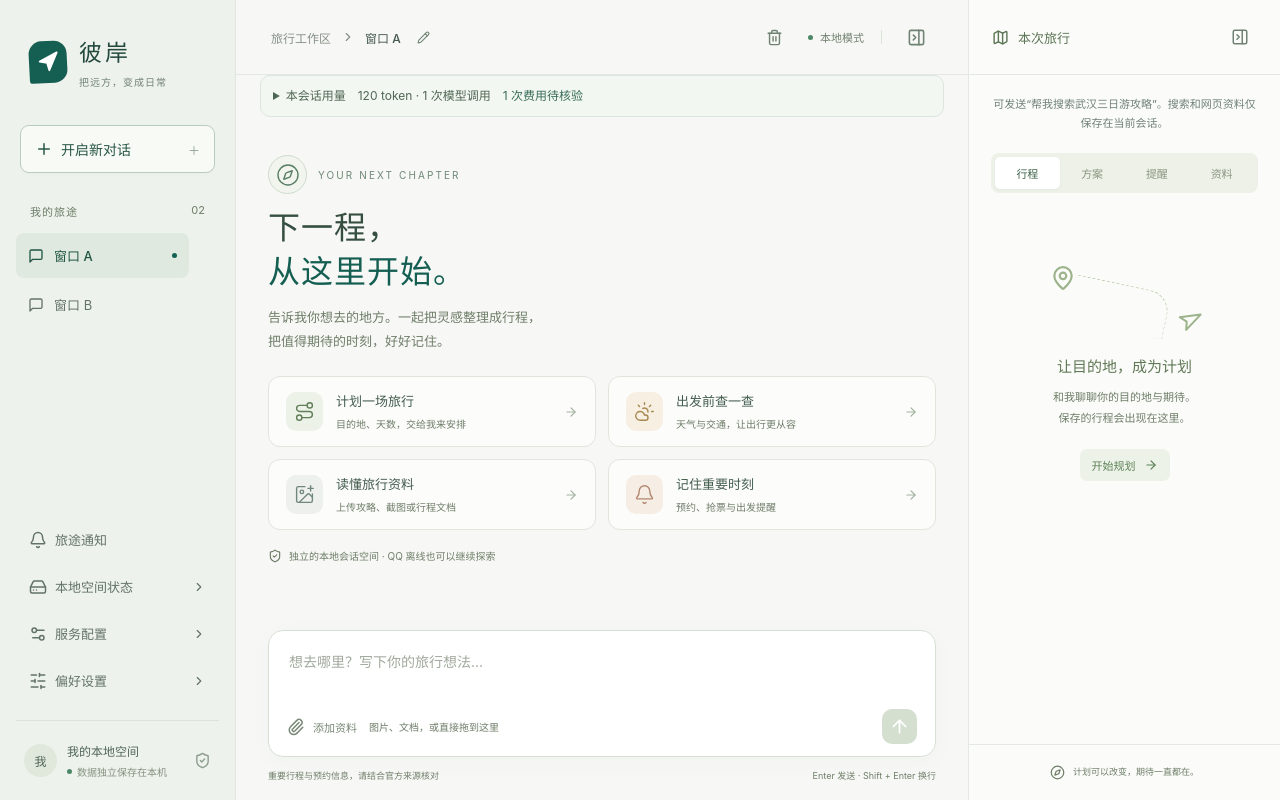
Test: local conversation interactions › isolates conversation usage and ignores a late response from the previous conversation
The width and height of the screenshot is (1280, 800).
Expected: the text "120 token · 1 次模型调用" is shown, x1=358 y1=86 x2=491 y2=106
Click the button "窗口 B": [102, 304] box x1=16 y1=282 x2=189 y2=327
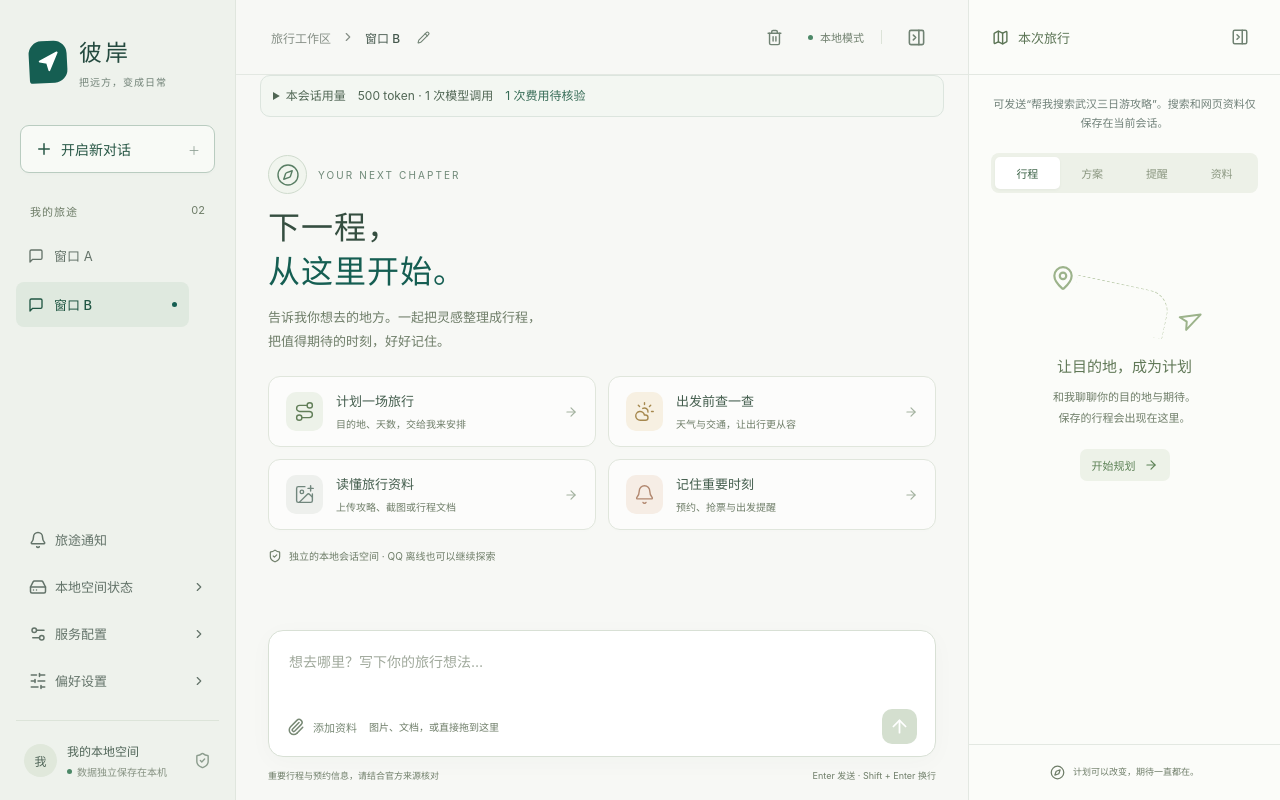
Expected: the heading "120 token · 1 次模型调用" is gone
Expected: the text "500 token · 1 次模型调用" is shown, x1=358 y1=86 x2=493 y2=106
